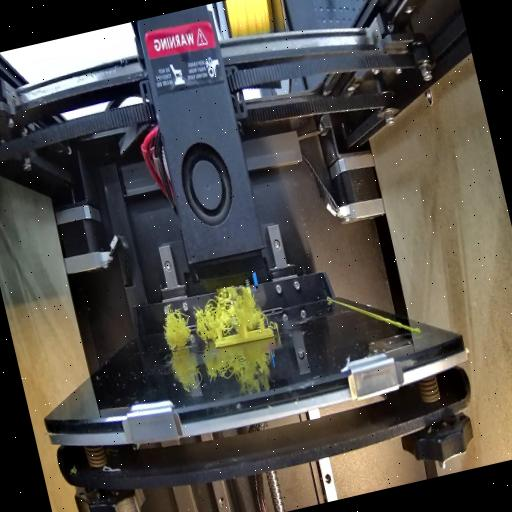spaghetti: (157, 276, 265, 350)
